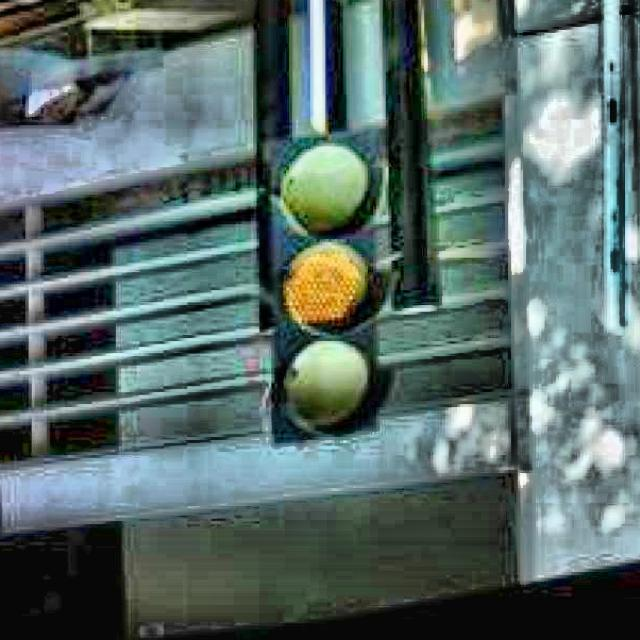yellow: (257, 127, 393, 447)
